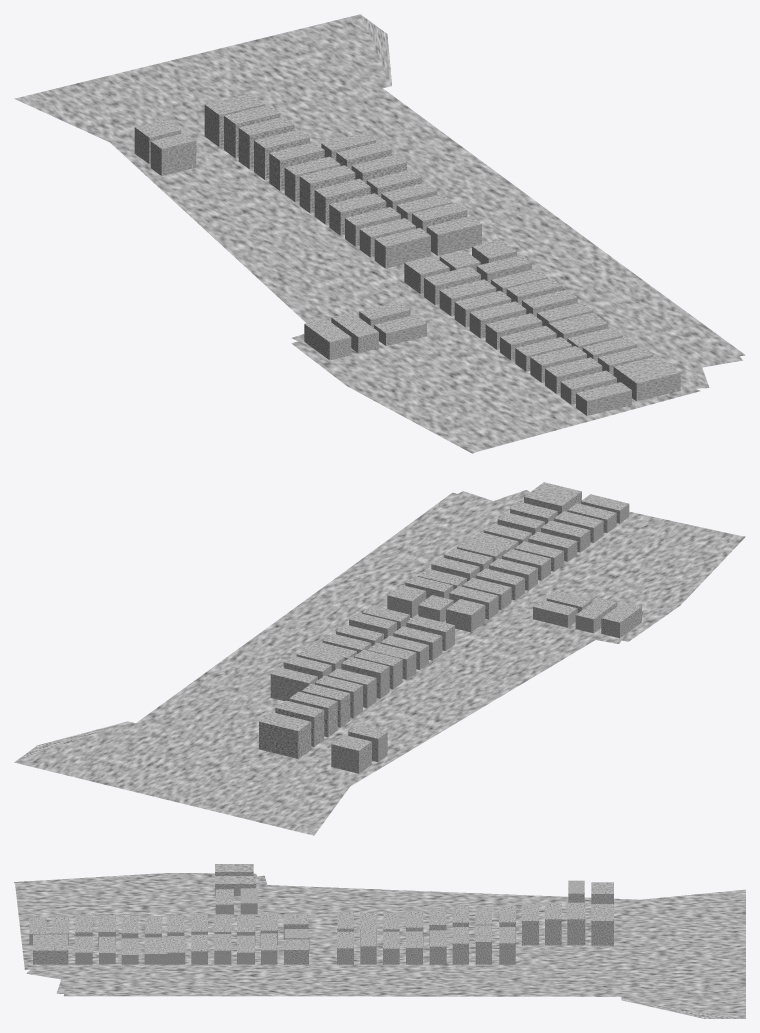
File: plan_noise.glb
The picture shows the model from 3 angles, top to bottom: view 1: azimuth 30°, elevation 25°; view 2: azimuth 150°, elevation 25°; view 3: azimuth 270°, elevation 25°; orthographic projection. The views are drawn at different scales.
Visible parts, largest first — view 1: Cube.011; view 2: Cube.011; view 3: Cube.011.
Part boxes in pixels (box(x1,y1,x2,y2)): Cube.011: box(14, 14, 745, 453); Cube.011: box(14, 482, 745, 835); Cube.011: box(14, 864, 745, 1018).
Size of the model in its own units: 12.04 by 1.01 by 25.5.
1 material, 1 textured.
